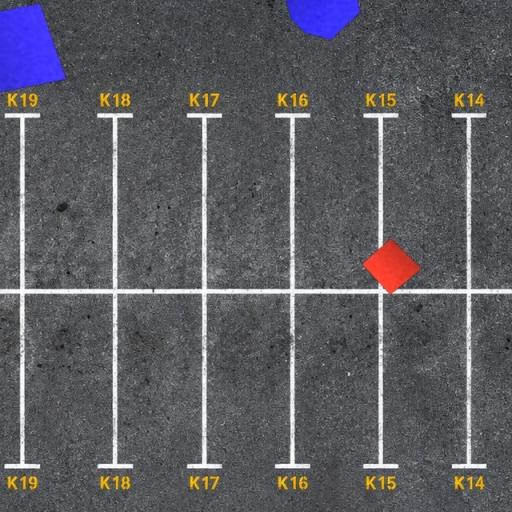BLUE_SQUARE: (0, 2, 67, 97)
RED_SQUARE: (361, 238, 422, 295)
